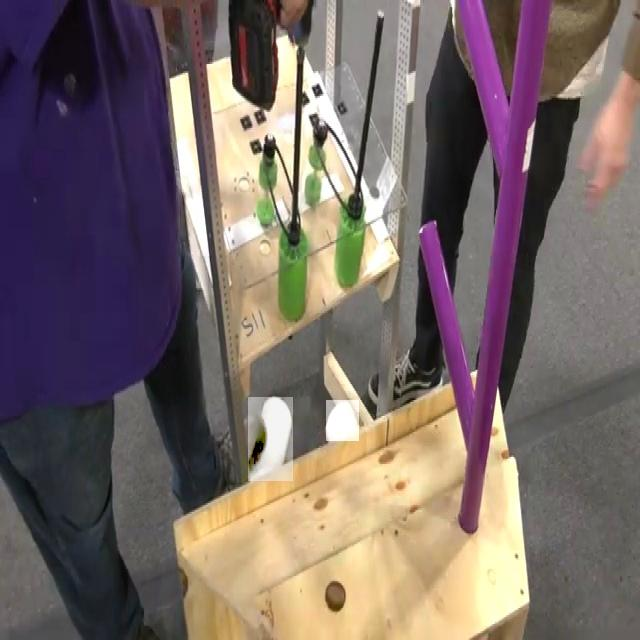Coral: (248, 397, 293, 481), (326, 400, 359, 441)
